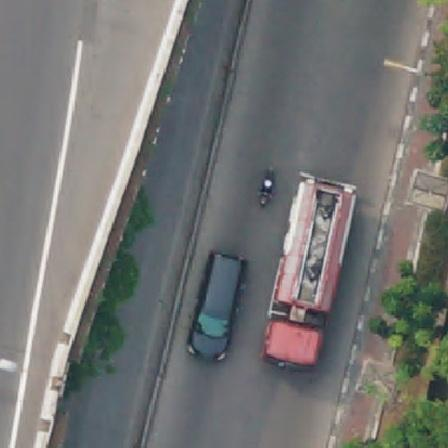Car: (185, 247, 242, 364)
Motorcycle: (256, 169, 276, 207)
